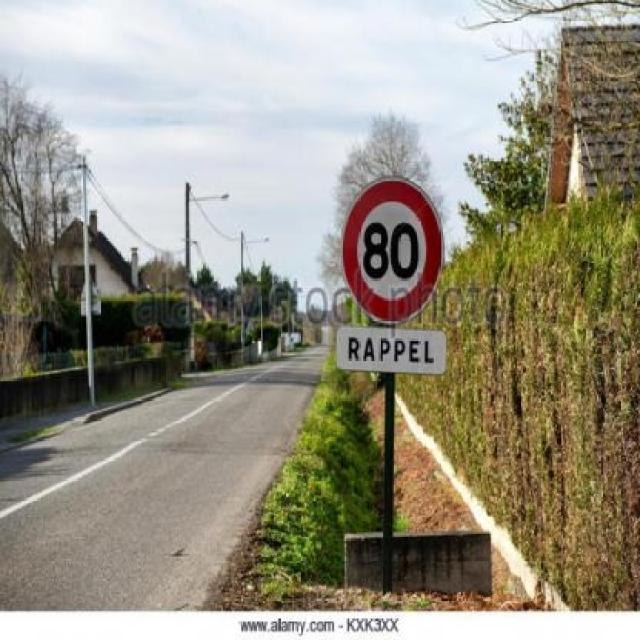forb_speed_over_80: (346, 179, 443, 330)
